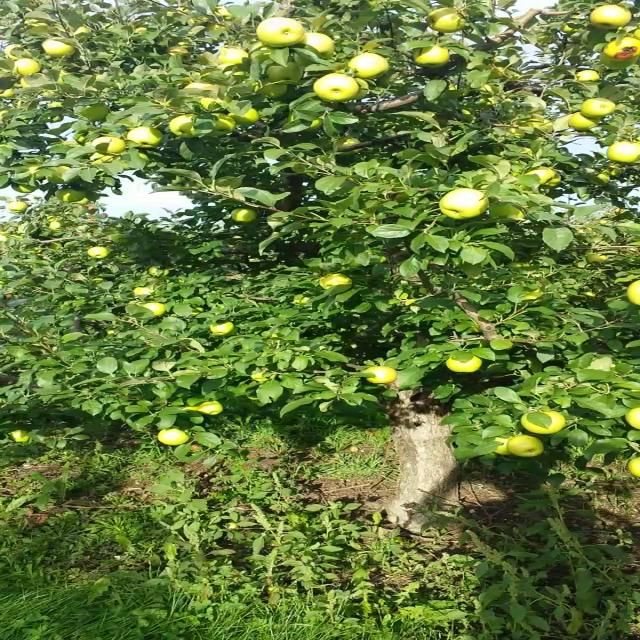apple: (439, 187, 488, 221), (256, 16, 307, 48), (315, 73, 358, 104), (292, 29, 335, 58), (588, 2, 632, 30), (424, 6, 471, 32), (518, 409, 564, 435), (347, 52, 390, 78), (267, 59, 305, 85), (410, 46, 452, 68), (124, 127, 164, 149), (68, 101, 111, 121), (604, 36, 639, 60), (507, 436, 545, 458), (170, 113, 200, 139), (576, 96, 614, 116), (88, 136, 126, 156), (487, 201, 525, 221), (207, 113, 237, 137), (157, 428, 193, 448), (607, 143, 639, 165), (288, 112, 327, 130), (442, 355, 481, 373), (569, 110, 600, 132), (43, 38, 77, 58), (317, 272, 353, 290), (330, 136, 366, 154), (598, 52, 638, 68), (10, 55, 42, 75), (252, 80, 286, 98), (215, 47, 252, 63), (201, 94, 232, 113), (228, 106, 260, 124), (366, 365, 398, 383), (526, 167, 555, 185), (571, 67, 601, 83), (538, 169, 564, 187), (45, 166, 71, 184), (195, 399, 222, 416), (180, 81, 218, 93), (490, 436, 514, 455), (623, 278, 639, 306), (141, 301, 169, 317), (351, 78, 369, 102), (230, 208, 257, 224), (55, 188, 85, 202), (209, 322, 238, 336), (4, 428, 32, 442), (527, 117, 554, 131), (214, 6, 235, 22), (624, 406, 638, 430), (4, 43, 22, 61), (89, 152, 115, 164), (86, 245, 108, 259), (622, 458, 639, 476), (145, 265, 170, 277), (586, 172, 610, 184), (585, 252, 607, 265), (5, 201, 28, 213), (204, 21, 228, 32), (133, 286, 159, 296), (163, 47, 191, 56), (11, 184, 38, 193), (602, 164, 620, 177), (249, 372, 268, 384), (1, 88, 19, 100), (292, 294, 310, 306), (561, 24, 578, 34), (71, 196, 88, 205), (73, 26, 92, 34), (46, 222, 60, 230), (46, 214, 59, 222), (634, 28, 639, 38)
